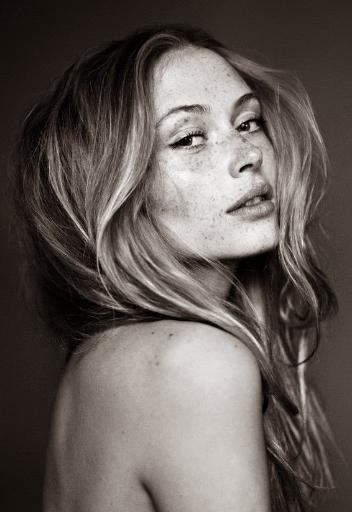left_eye: (235, 119, 268, 139)
right_eye: (168, 132, 209, 159)
right_lip_corner: (227, 201, 244, 222)
